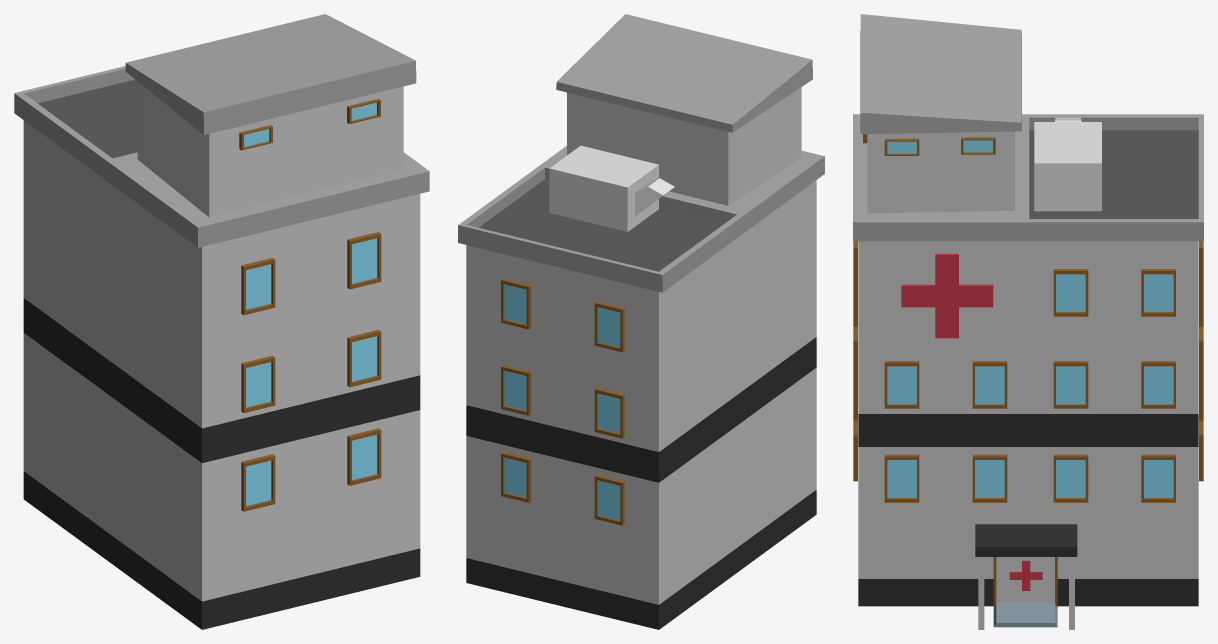
File: hospitalbuilding2.fbx
The picture shows the model from 3 angles, left to right: view 1: azimuth 30°, elevation 25°; view 2: azimuth 150°, elevation 25°; view 3: azimuth 270°, elevation 25°; orthographic projection. The views are drawn at different scales.
Parts seen in each view (by area): view 1: Cube, Cube.002; view 2: Cube, Cube.002, Cube.003; view 3: Cube, Cube.002, Cube.003, Cube.004, Cube.001.
Boxes of the visible parts, x1=… form: Cube: x1=14, y1=14, x2=429, y2=629; Cube.002: x1=239, y1=98, x2=381, y2=511; Cube: x1=458, y1=14, x2=824, y2=629; Cube.002: x1=501, y1=278, x2=624, y2=525; Cube.003: x1=549, y1=145, x2=674, y2=231; Cube: x1=853, y1=14, x2=1203, y2=606; Cube.002: x1=853, y1=134, x2=1203, y2=627; Cube.003: x1=1034, y1=117, x2=1101, y2=211; Cube.004: x1=975, y1=524, x2=1077, y2=629; Cube.001: x1=901, y1=253, x2=1042, y2=590.
Bounding box in the file's own units: 885 × 1598 × 1029.
